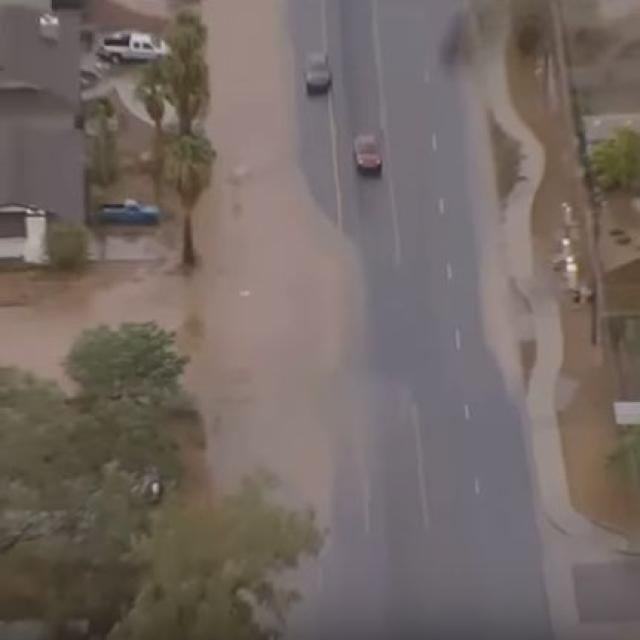flooded_areas: (0, 0, 343, 630)
